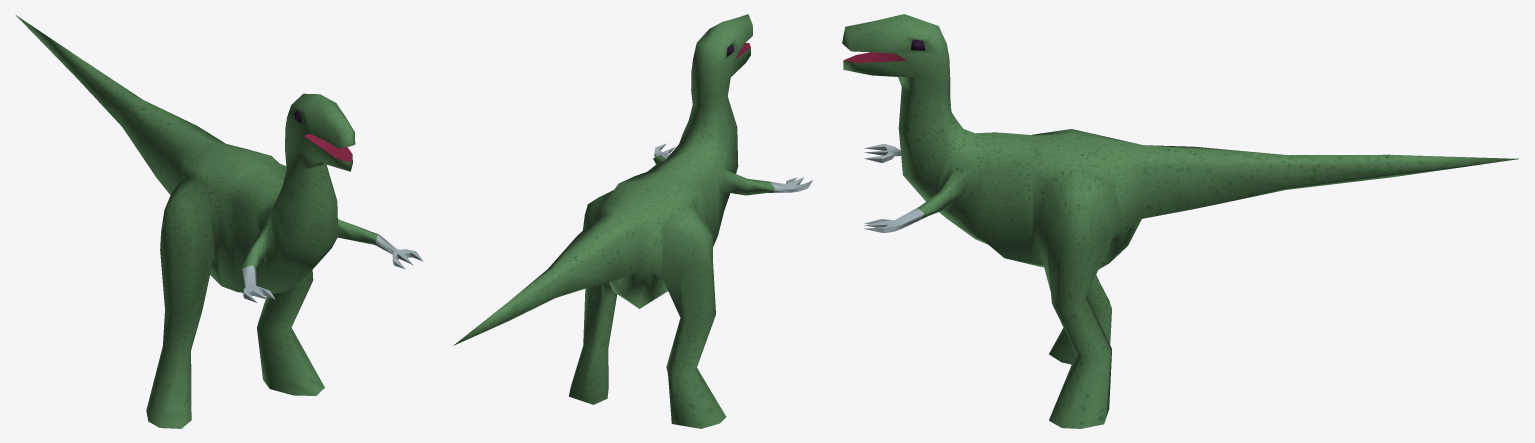
The model's file is Dino.obj.
3 views of the same model, side by side, from view 1: azimuth 30°, elevation 25°; view 2: azimuth 150°, elevation 25°; view 3: azimuth 270°, elevation 25° (orthographic). The views are drawn at different scales.
Visible parts, largest first — view 1: pCube3; view 2: pCube3; view 3: pCube3.
Boxes of the visible parts, x1,y1,x2,y2 form: pCube3: [16, 15, 423, 428]; pCube3: [453, 14, 812, 428]; pCube3: [842, 14, 1518, 428].
Size of the model in its own units: 0.9876 by 2.03 by 3.34.
